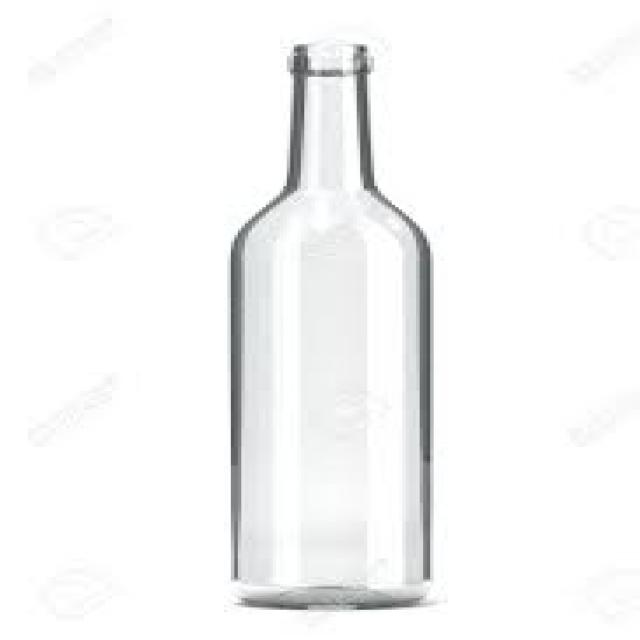Glass-Non-Biodegradable but Recyclable-: (226, 39, 438, 612)
